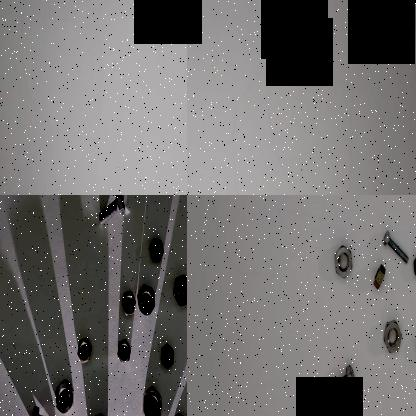Bolts: (324, 360, 356, 408), (380, 228, 410, 264), (97, 195, 127, 230), (27, 400, 60, 416)
NUTS: (381, 318, 406, 358), (332, 244, 352, 282), (55, 374, 73, 416), (135, 281, 155, 318), (140, 385, 162, 416), (370, 258, 388, 294), (171, 271, 187, 309), (74, 334, 92, 364), (148, 232, 166, 262), (159, 340, 176, 368), (116, 338, 132, 365), (121, 288, 136, 316), (411, 250, 416, 281)
